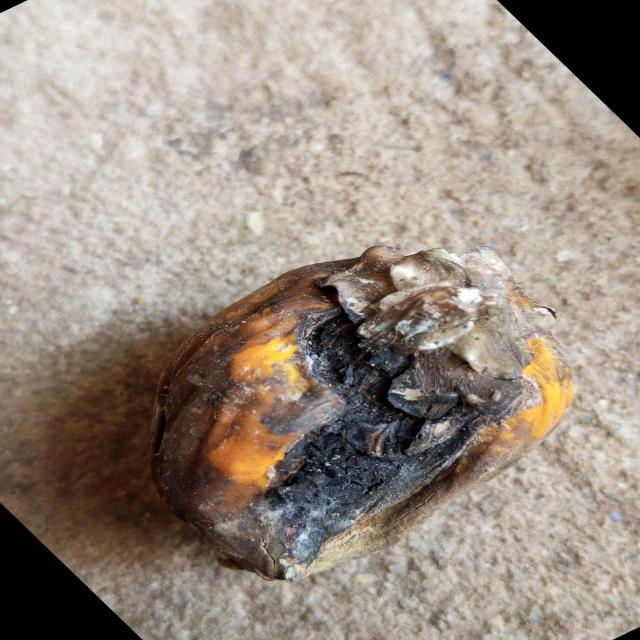damaged: (149, 247, 578, 583)
